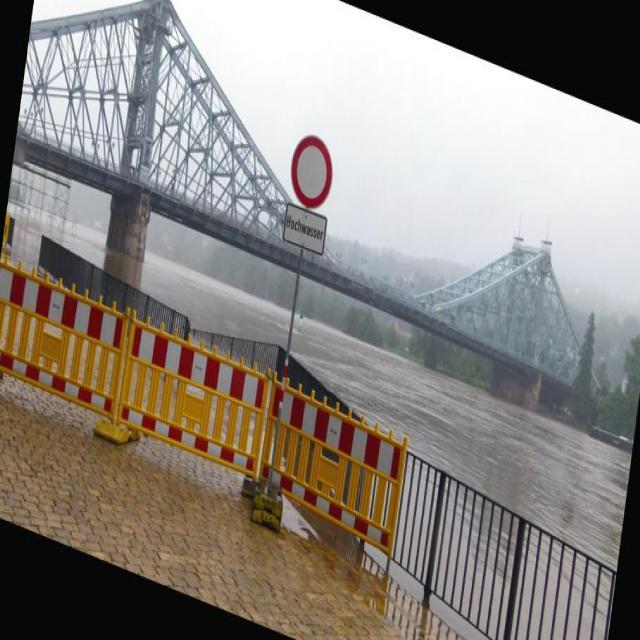flood: (50, 171, 638, 562)
